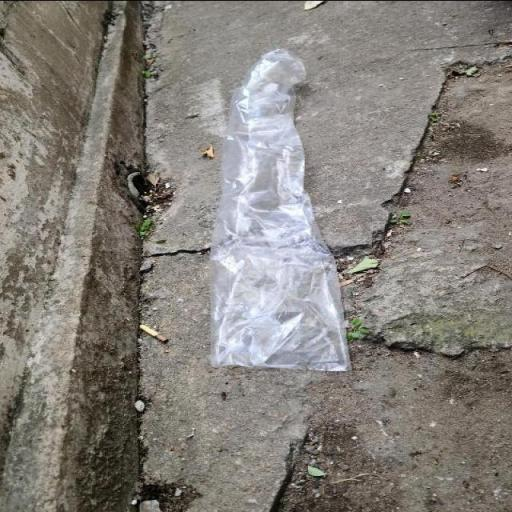plastic-bag: (206, 44, 350, 372)
